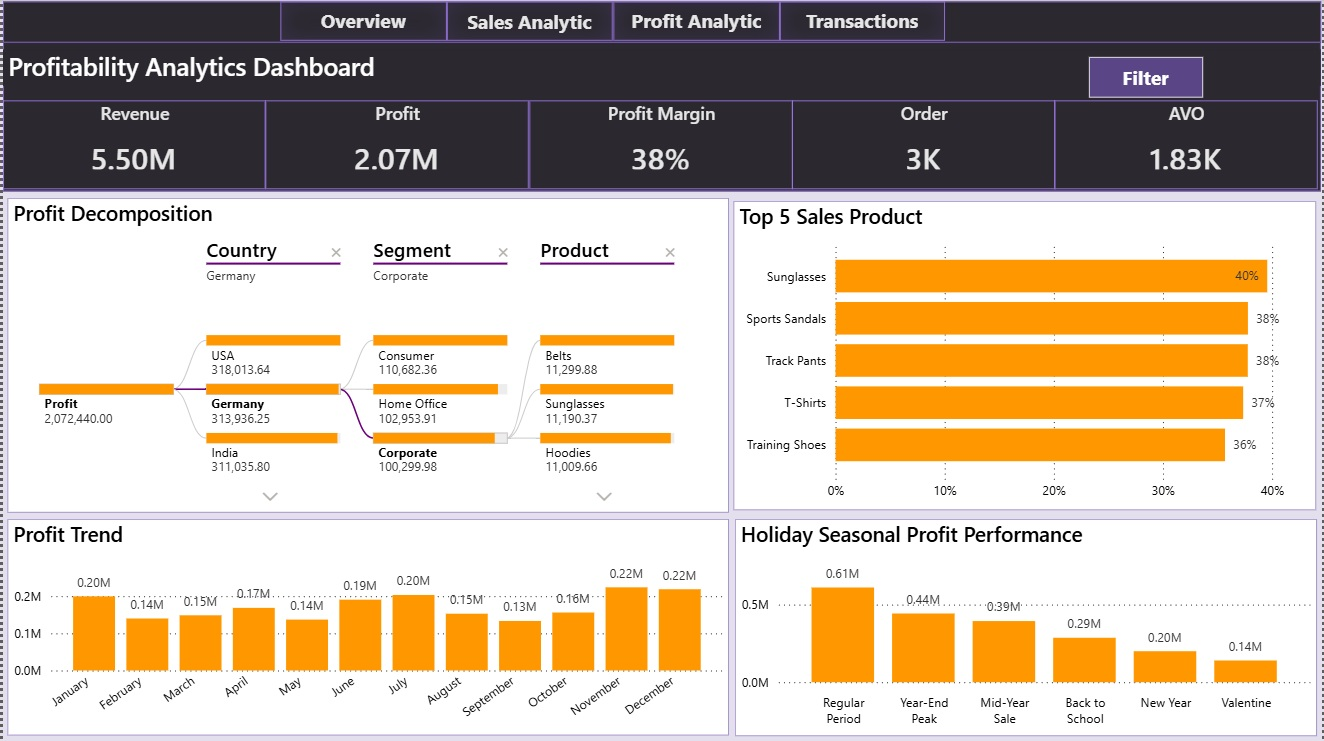

What the dashboard file says about the page in this screenshot:
{"tool":"powerbi","page":{"name":"Profit Analytic","canvas":[1280,720],"ordinal":2},"visuals":[{"type":"shape","box":[0,2.1,1279.1,40],"z":0,"group":"g4"},{"type":"actionButton","title":"Transactions","box":[753.5,2.2,160.1,37.8],"z":0,"group":"g2"},{"type":"group","id":"g1","title":"KPI","box":[0,40.6,1278.9,145],"z":0},{"type":"shape","box":[0,40.6,1278.9,145],"z":0,"group":"g1"},{"type":"cardVisual","title":"Revenue","fields":{"Data":["Footwear_Sales.Total Revenue"]},"box":[0,97.2,254.9,86.1],"z":0,"group":"g3"},{"type":"decompositionTreeVisual","title":"Profit Decomposition","fields":{"ExplainBy":["Footwear_Sales.Region / Country","Footwear_Sales.Customer Segment","Footwear_Sales.Product Name"],"Analyze":["Footwear_Sales.Profit"]},"box":[4.6,192.8,700,305],"z":0,"group":"g5"},{"type":"group","id":"g2","title":"Dashboard ","box":[268.8,2.2,644.8,38.4],"z":1000,"group":"g4"},{"type":"actionButton","title":"Profit_Analytic","box":[591.9,2.2,161.6,37.8],"z":1000,"group":"g2"},{"type":"textbox","title":"Profitability Analytics Dashboard","box":[0,48,1278.5,35.4],"z":1000,"group":"g1"},{"type":"cardVisual","title":"Profit","fields":{"Data":["Footwear_Sales.Profit"]},"box":[255.3,96.9,255,86.1],"z":1000,"group":"g3"},{"type":"clusteredColumnChart","title":"Profit Trend","fields":{"Y":["Footwear_Sales.Profit"],"Category":["Footwear_Sales.Order Month"]},"box":[4.6,503.9,700,210],"z":1000,"group":"g5"},{"type":"actionButton","title":"sales_Analytic","box":[429.9,2.2,160.7,38],"z":2000,"group":"g2"},{"type":"group","id":"g3","title":"cards","box":[0,96.9,1275.5,87.2],"z":2000,"group":"g1"},{"type":"cardVisual","title":"Profit Margin","fields":{"Data":["Footwear_Sales.Profit Margin"]},"box":[510.3,96.9,255,86.1],"z":2000,"group":"g3"},{"type":"clusteredBarChart","title":"Top 5 Sales Product","fields":{"Category":["Footwear_Sales.Product Name"],"Y":["Footwear_Sales.Profit Margin"]},"box":[709.6,195.5,565,300],"z":2000,"group":"g5"},{"type":"group","id":"g4","title":"Dashboard selection","box":[0,2.1,1279.1,40],"z":3000},{"type":"actionButton","title":"overview","box":[268.8,2.8,161.6,37.8],"z":3000,"group":"g2"},{"type":"cardVisual","title":"Order","fields":{"Data":["Footwear_Sales.Order Count"]},"box":[765.3,96.9,255,86.1],"z":3000,"group":"g3"},{"type":"cardVisual","title":"AVO","fields":{"Data":["Footwear_Sales.AVO (average order value)"]},"box":[1020.3,96.9,255,86.1],"z":4000,"group":"g3"},{"type":"group","id":"g5","title":"ProfitDashboard","box":[4.6,192.8,1270,521.1],"z":4000},{"type":"actionButton","title":"Filter_On","box":[1053.4,54.6,110.8,39.5],"z":4500},{"type":"clusteredColumnChart","title":"Holiday Seasonal Profit Performance","fields":{"Category":["Footwear_Sales.Holiday Season"],"Y":["Sum(Footwear_Sales.Profit_column)"]},"box":[710.6,503.6,564.9,210.4],"z":7000}]}

Visuals, with their boxes in screenshot pixels (x1, y1, x2, y2), scaled from the page's 1280x720 canvas onto the 1324x741 screenshot:
shape: [0, 2, 1323, 43]
"Transactions" actionButton: [779, 2, 945, 41]
"KPI" group: [0, 42, 1323, 191]
shape: [0, 42, 1323, 191]
"Revenue" cardVisual: [0, 100, 264, 189]
"Profit Decomposition" decompositionTreeVisual: [5, 198, 729, 512]
"Dashboard " group: [278, 2, 945, 42]
"Profit_Analytic" actionButton: [612, 2, 779, 41]
"Profitability Analytics Dashboard" textbox: [0, 49, 1322, 86]
"Profit" cardVisual: [264, 100, 528, 188]
"Profit Trend" clusteredColumnChart: [5, 519, 729, 735]
"sales_Analytic" actionButton: [445, 2, 611, 41]
"cards" group: [0, 100, 1319, 189]
"Profit Margin" cardVisual: [528, 100, 792, 188]
"Top 5 Sales Product" clusteredBarChart: [734, 201, 1318, 510]
"Dashboard selection" group: [0, 2, 1323, 43]
"overview" actionButton: [278, 3, 445, 42]
"Order" cardVisual: [792, 100, 1055, 188]
"AVO" cardVisual: [1055, 100, 1319, 188]
"ProfitDashboard" group: [5, 198, 1318, 735]
"Filter_On" actionButton: [1090, 56, 1204, 97]
"Holiday Seasonal Profit Performance" clusteredColumnChart: [735, 518, 1319, 735]
